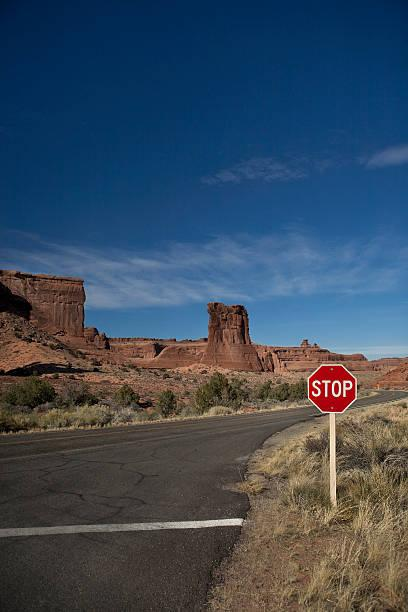Pole: (328, 415, 338, 505)
Sign: (308, 363, 358, 414)
